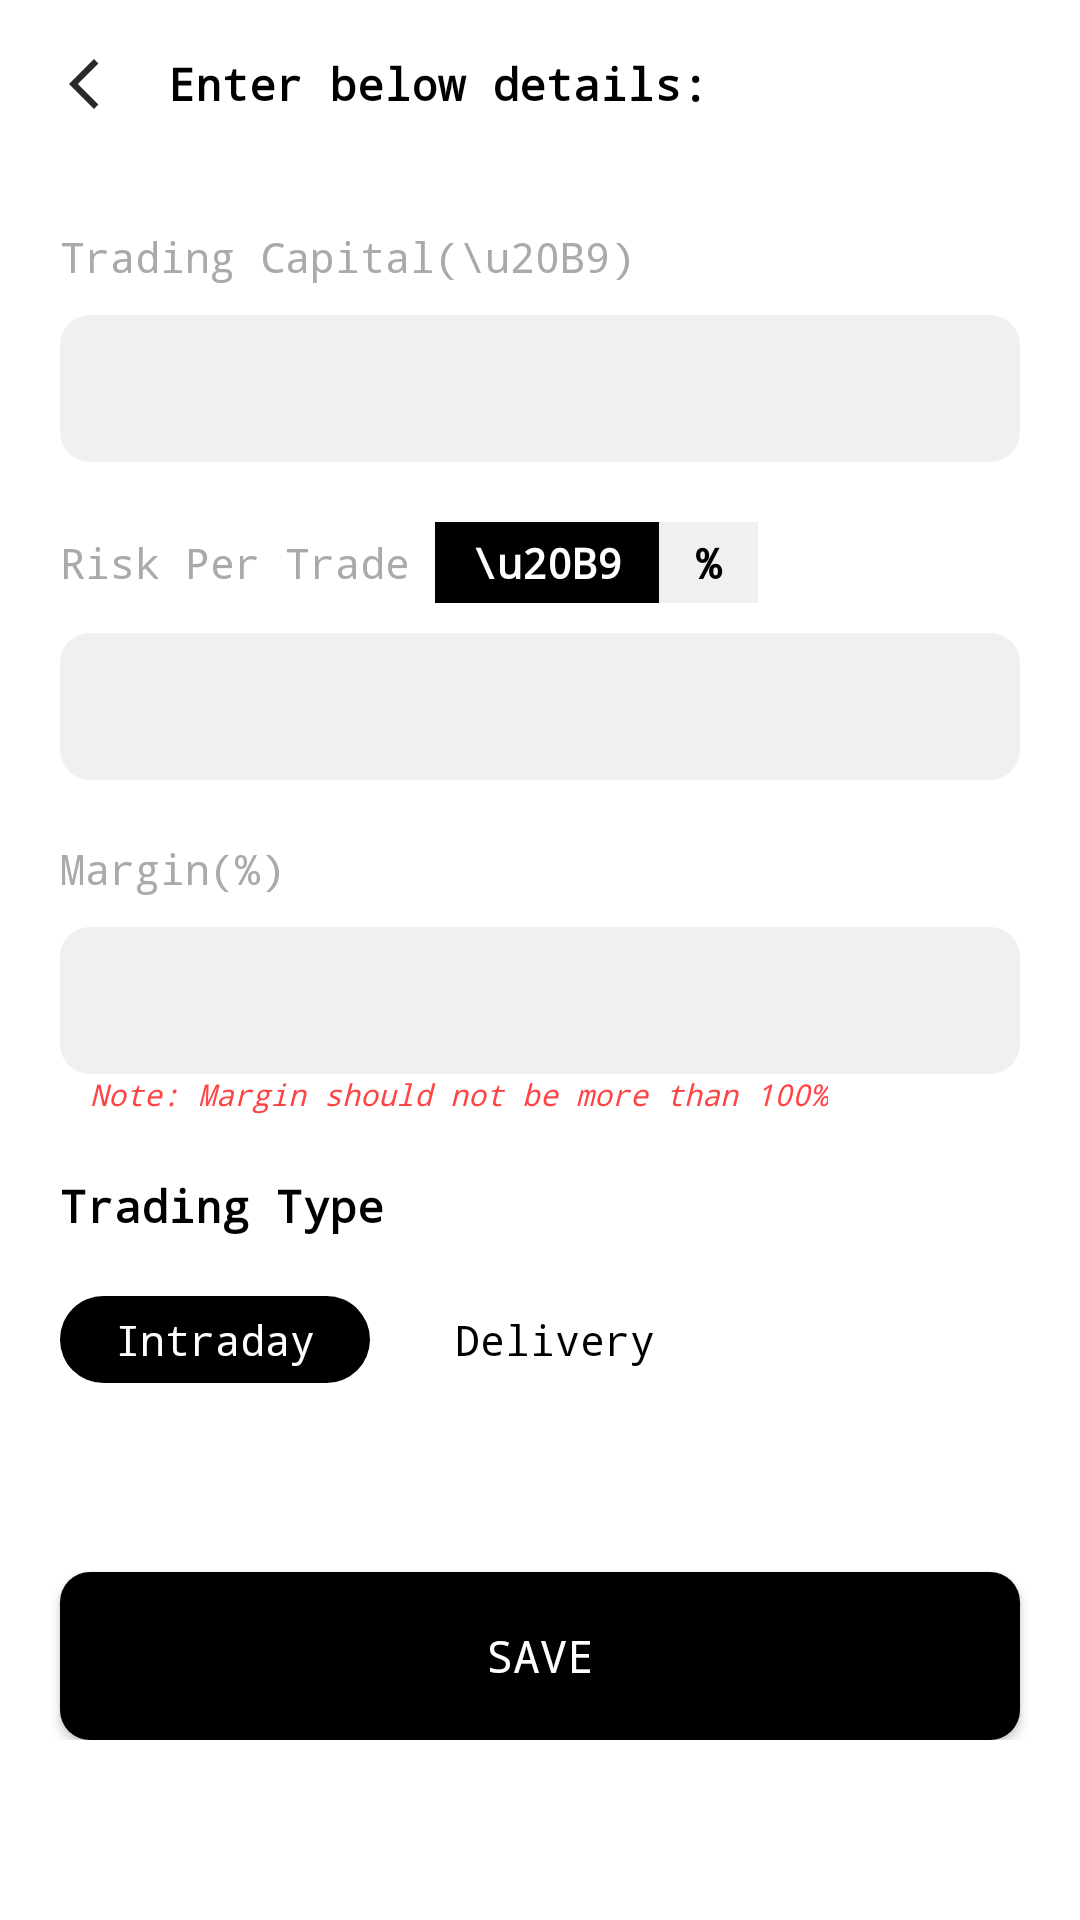

Icon bounding boxes for this 1080w x 1920h phone screenshot, format rect(x1, y1, x2, y2):
arrow back: rect(69, 59, 99, 109)
